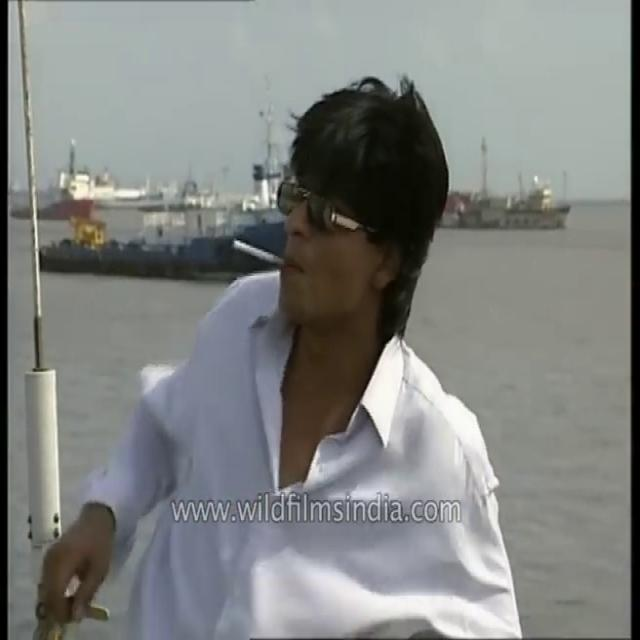Smooking: (225, 224, 291, 277)
